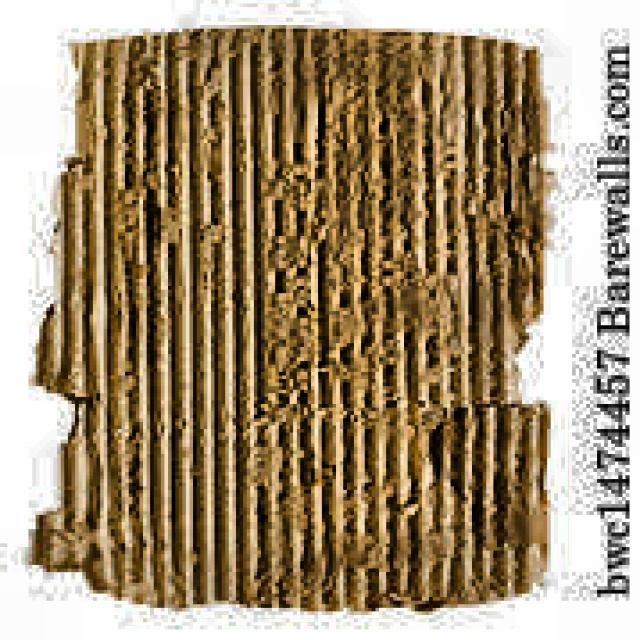Cardbox: (18, 21, 568, 624)
